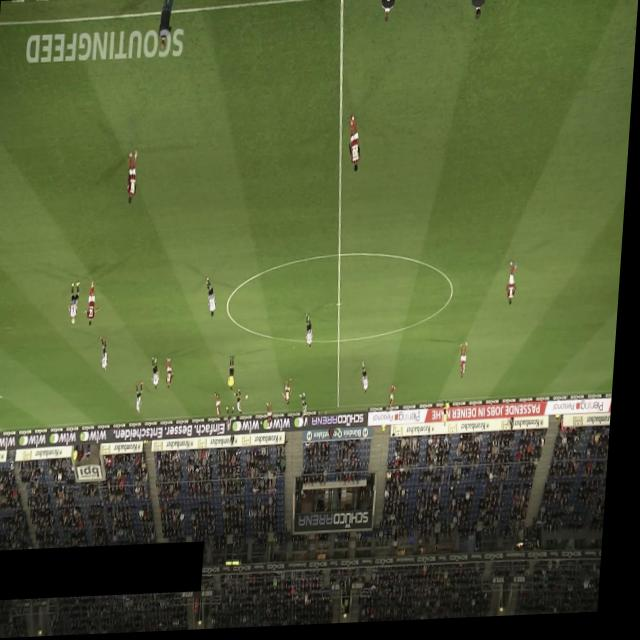player: (86, 279, 106, 327), (348, 116, 364, 175), (127, 149, 140, 205), (206, 277, 222, 319), (70, 281, 84, 325), (509, 265, 521, 310), (102, 336, 114, 375), (307, 315, 318, 352), (364, 363, 374, 398), (463, 345, 472, 383), (155, 357, 165, 391), (138, 383, 148, 415), (169, 358, 179, 390), (303, 394, 313, 423), (287, 381, 297, 407), (218, 393, 227, 420), (230, 408, 239, 434), (392, 388, 400, 415), (240, 391, 248, 417), (270, 404, 278, 428)
referee: (231, 357, 240, 394), (447, 404, 454, 431)
